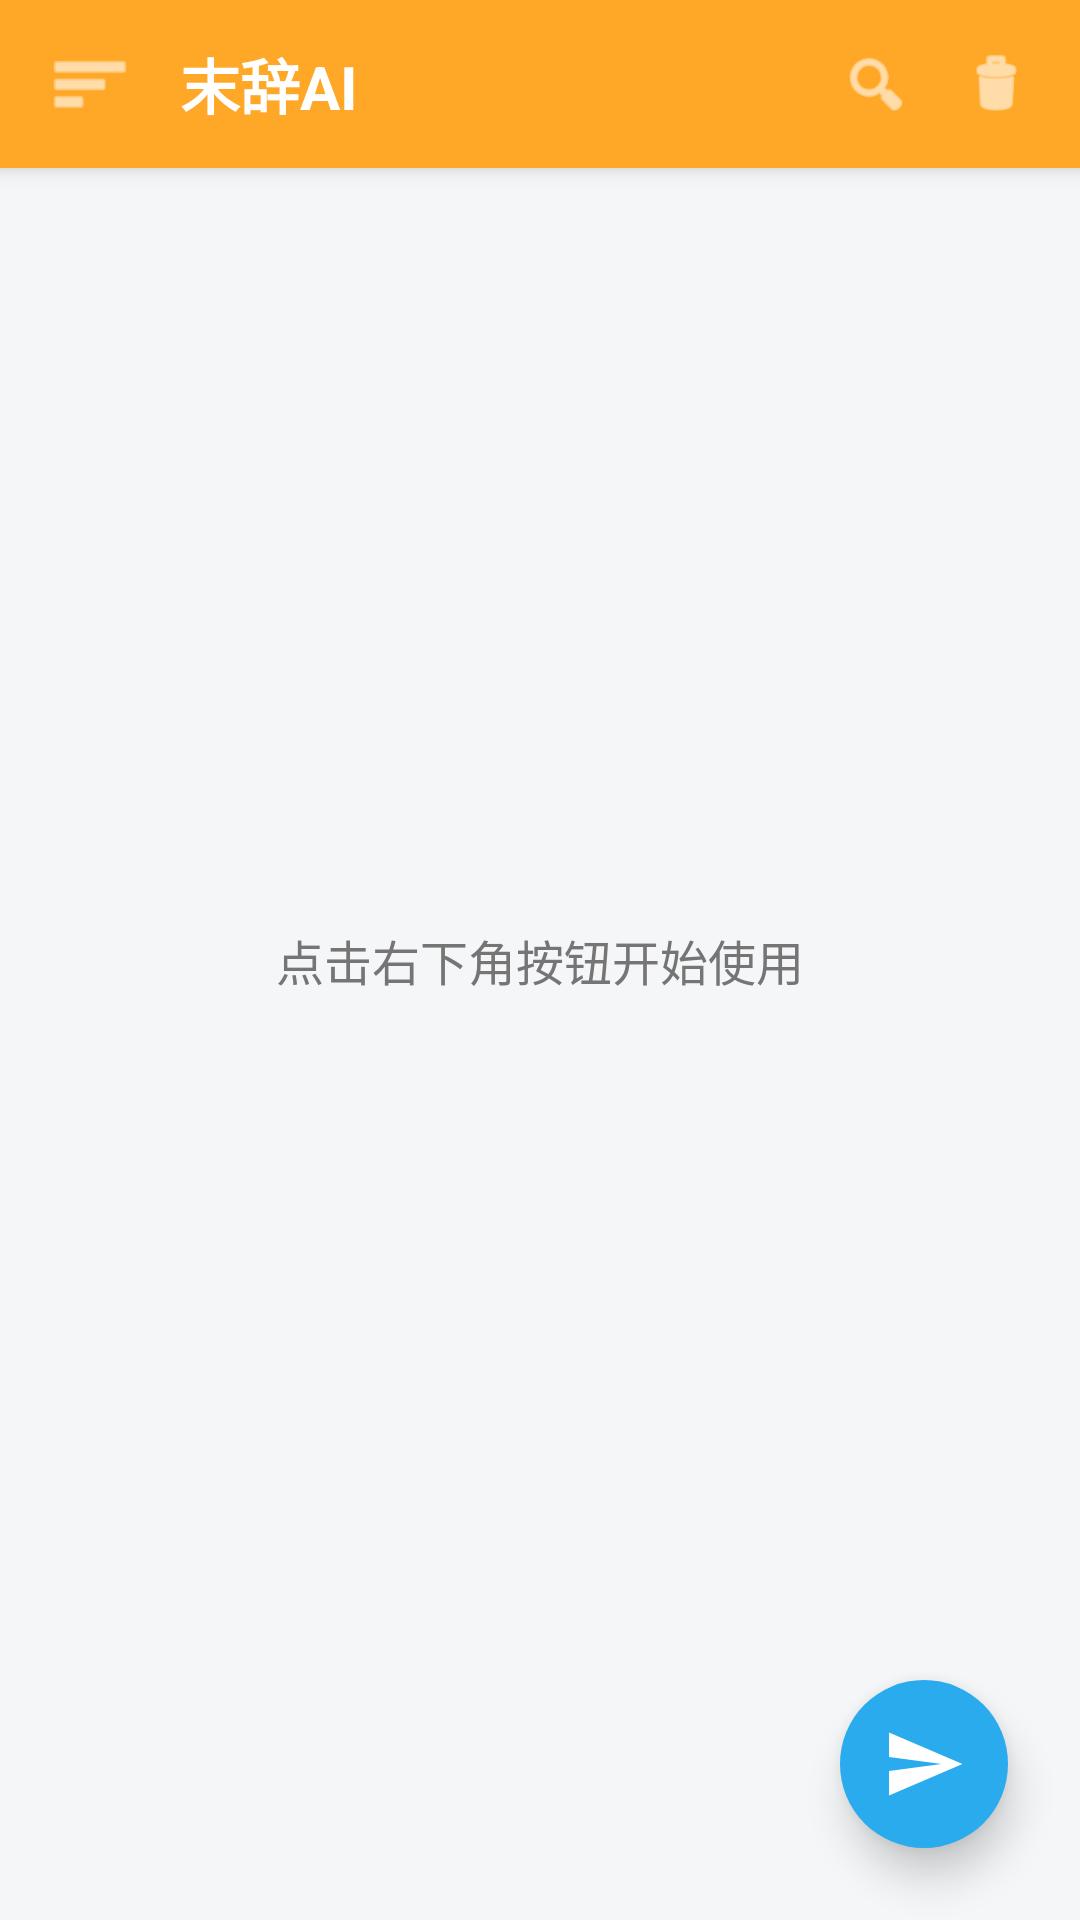

Named icons in this screenshot (1080x1920) and their bounding boxes, (x1, y1, x2, y2):
delete: (976, 55, 1017, 111)
search: (849, 58, 903, 111)
sort by size: (54, 61, 126, 108)
telegram plane: (840, 1680, 1008, 1848)
